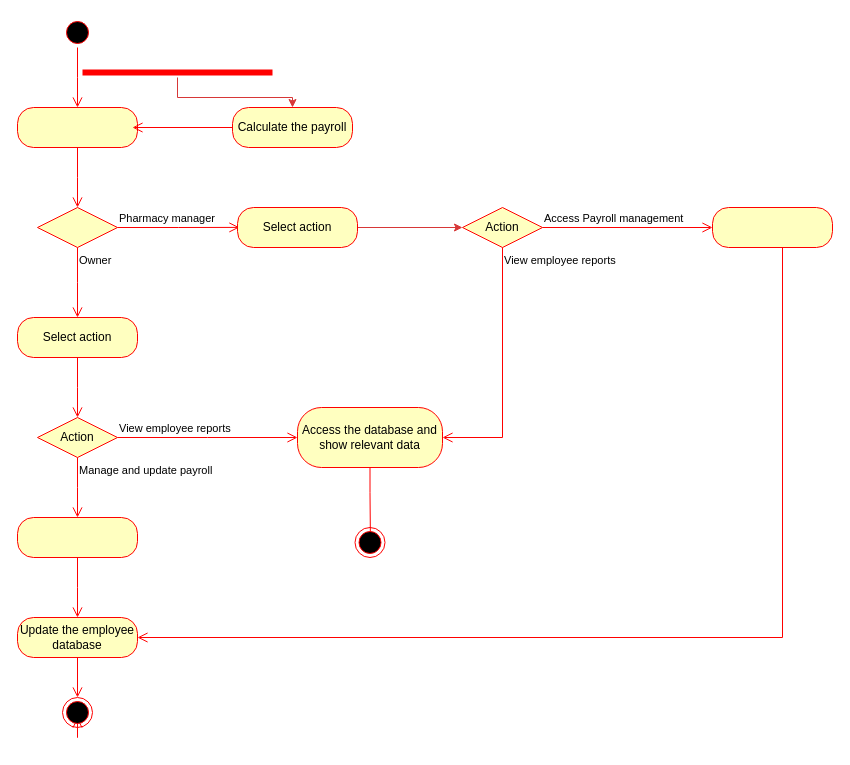
Some shapes in this 850 by 765 pixel diagram are drawn without their labels. Each missing label, with the centre of its shape:
"Login" belongs at (x=77, y=127).
"Prompt to enter details" belongs at (x=77, y=537).
"Role" belongs at (x=77, y=227).
"Update payrol management" belongs at (x=772, y=227).
